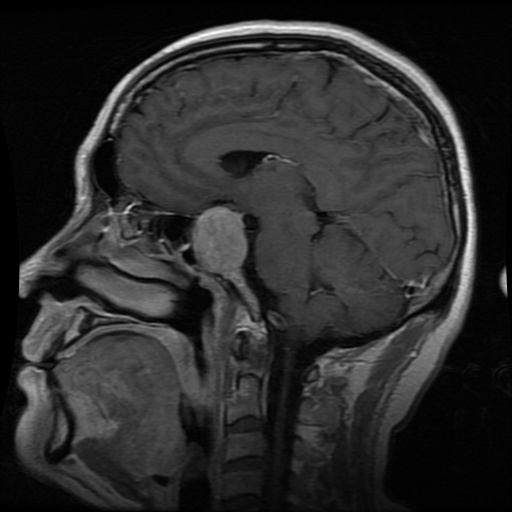pituitary: (193, 208, 247, 273)
